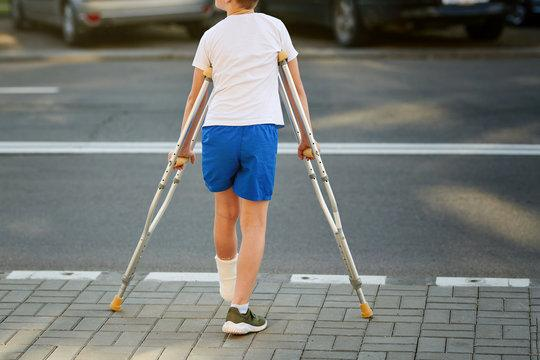crutches: (109, 1, 374, 336)
